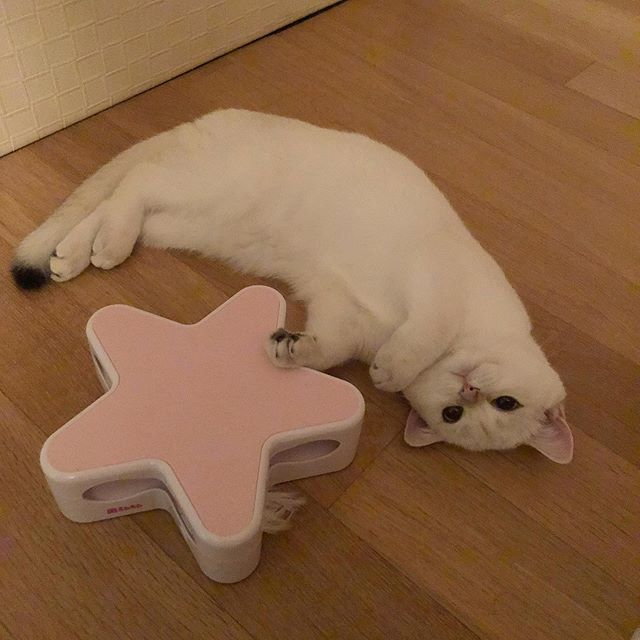cat: (397, 329, 578, 473)
